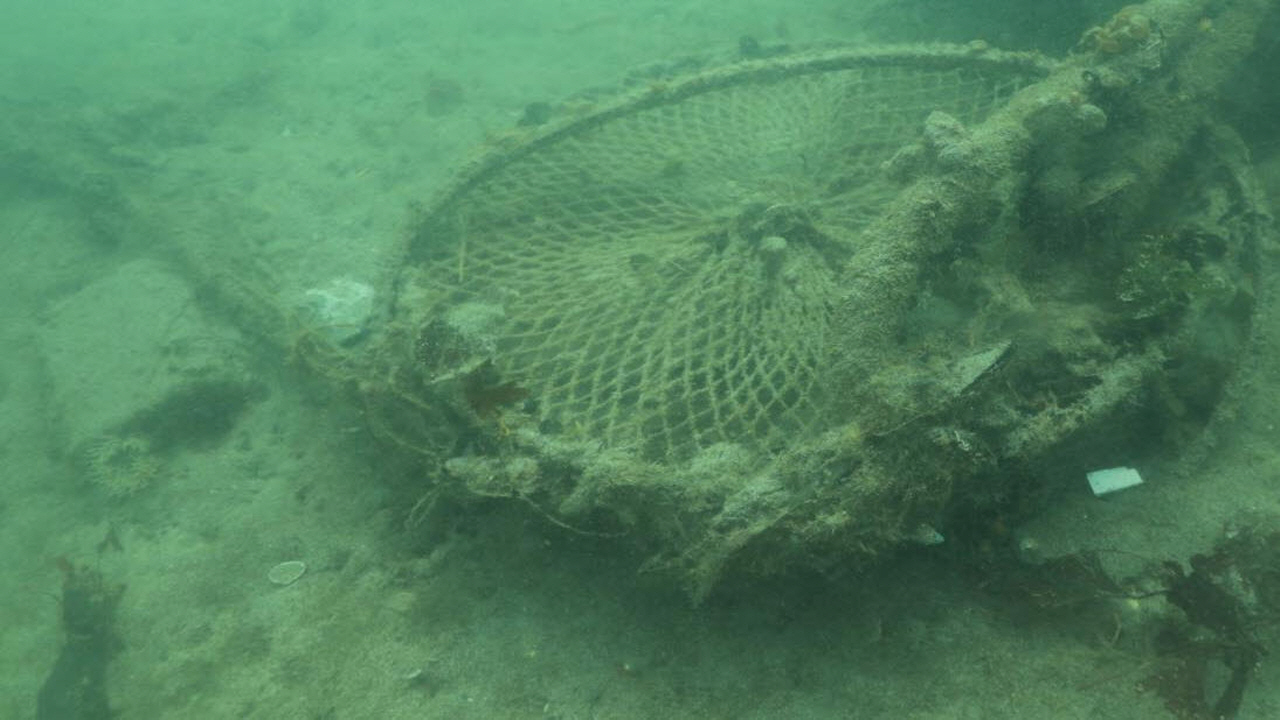circular fish trap: (387, 36, 1235, 496)
